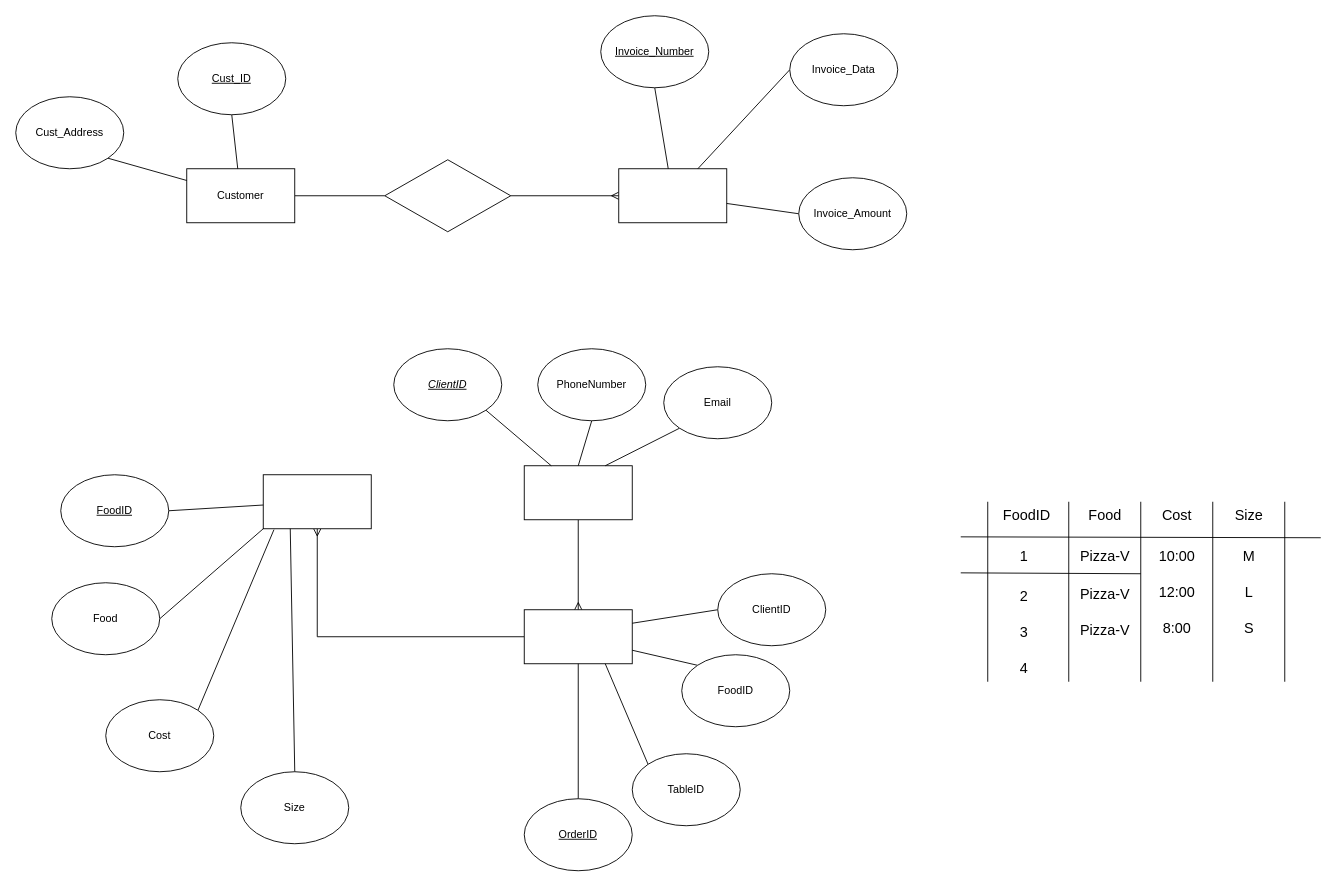
Some shapes in this 1337 by 887 pixel diagram are drawn without their labels. The shapes that lost their labels are listed below. From the top down, each one's centre as x and y in pixels, then its label:
[447,195]: Relationship
[672,195]: Invoice
[316,501]: FoodItem
[577,492]: Client
[577,636]: Order
